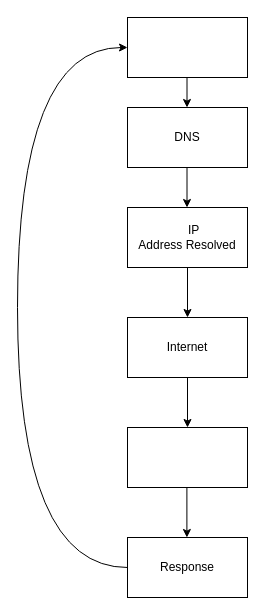
The diagram is 265 pixels wide and 615 high, and some of its shapes have lost their labels. The box of each missing label's shape, as (x1, y1, x2, y2) in pixels:
Instagram Server: (126, 426, 248, 488)
│ Browser (Client) │: (126, 16, 248, 78)
